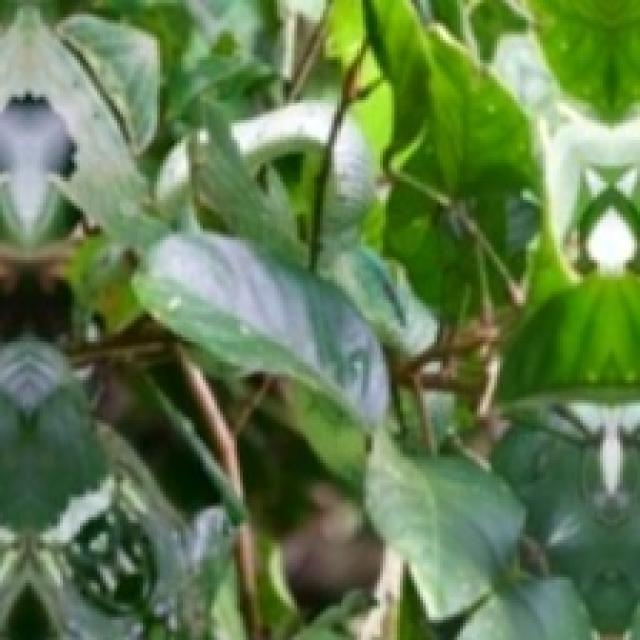north ph temple pitviper: (156, 102, 439, 358)
